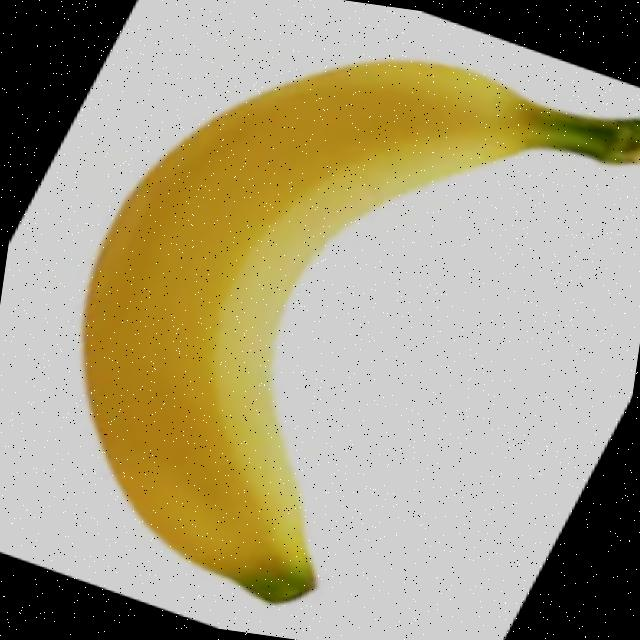banana: (46, 17, 640, 640)
